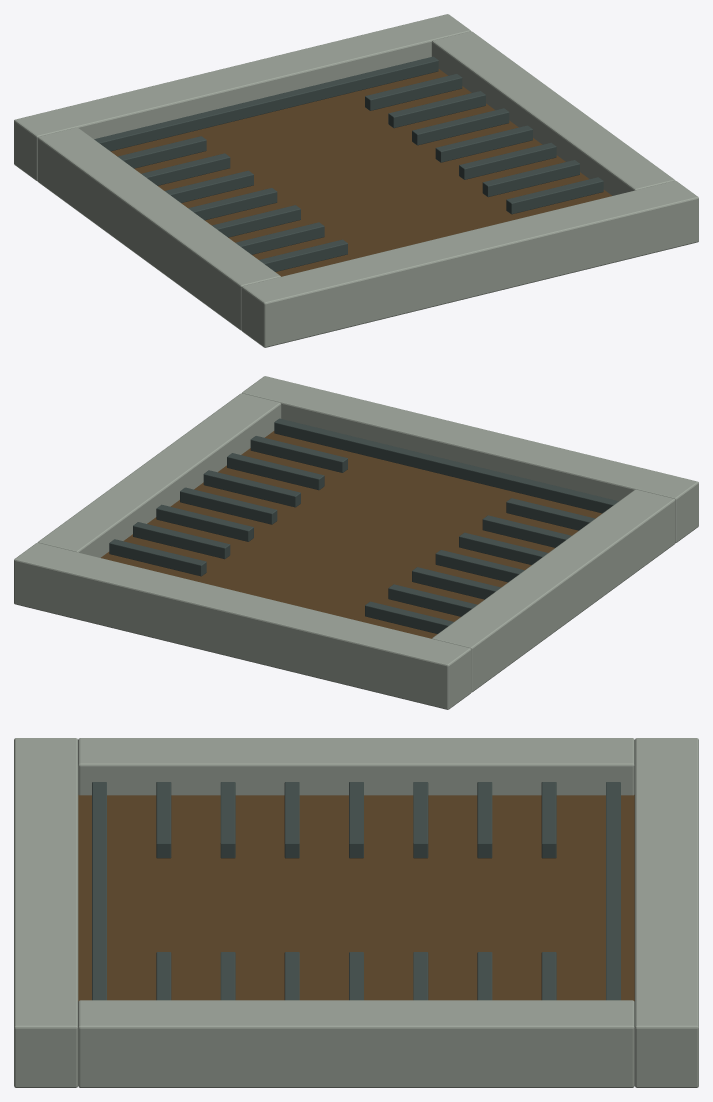
3 views of the same model, one above another, from view 1: azimuth 30°, elevation 25°; view 2: azimuth 150°, elevation 25°; view 3: azimuth 270°, elevation 25° (orthographic). The views are drawn at different scales.
Parts seen in each view (by area): view 1: PIT_Earth, PIT_Kerb, PIT_Kerb.002, PIT_Kerb.001, PIT_Kerb.003, GRATE_Tie.001, GRATE_Bar.012, GRATE_Bar.015, GRATE_Bar.010, GRATE_Bar.011, GRATE_Bar.013, GRATE_Bar.014 (+10 smaller); view 2: PIT_Earth, PIT_Kerb.001, PIT_Kerb.002, PIT_Kerb, PIT_Kerb.003, GRATE_Tie, GRATE_Bar.011, GRATE_Bar.014, GRATE_Bar.010, GRATE_Bar.012, GRATE_Bar.013, GRATE_Bar.015 (+10 smaller); view 3: PIT_Earth, PIT_Kerb.003, PIT_Kerb.002, PIT_Kerb, PIT_Kerb.001, GRATE_Tie, GRATE_Tie.001, GRATE_Bar.001, GRATE_Bar.002, GRATE_Bar.006, GRATE_Bar.007, GRATE_Bar.003 (+12 smaller).
Part boxes in pixels (x1,y1,x2,y2): PIT_Earth: (111, 69, 611, 276); PIT_Kerb: (241, 180, 698, 347); PIT_Kerb.002: (37, 127, 280, 330); PIT_Kerb.001: (14, 14, 470, 181); PIT_Kerb.003: (431, 31, 674, 195); GRATE_Tie.001: (94, 57, 438, 150); GRATE_Bar.012: (459, 142, 556, 179); GRATE_Bar.015: (388, 91, 485, 128); GRATE_Bar.010: (506, 177, 603, 214); GRATE_Bar.011: (482, 160, 579, 197); GRATE_Bar.013: (435, 125, 532, 162); GRATE_Bar.014: (412, 108, 509, 145); PIT_Earth: (101, 431, 601, 638); PIT_Kerb.001: (14, 542, 471, 709); PIT_Kerb.002: (432, 489, 675, 692); PIT_Kerb: (242, 376, 698, 543); PIT_Kerb.003: (38, 393, 281, 557); GRATE_Tie: (274, 419, 618, 513); GRATE_Bar.011: (227, 453, 324, 490); GRATE_Bar.014: (156, 504, 253, 541); GRATE_Bar.010: (250, 436, 347, 472); GRATE_Bar.012: (203, 470, 300, 507); GRATE_Bar.013: (180, 487, 277, 524); GRATE_Bar.015: (133, 522, 230, 559); PIT_Earth: (78, 795, 634, 1001); PIT_Kerb.003: (78, 1000, 634, 1087); PIT_Kerb.002: (78, 738, 634, 795); PIT_Kerb: (14, 738, 78, 1087); PIT_Kerb.001: (634, 738, 698, 1087); GRATE_Tie: (92, 785, 106, 1000); GRATE_Tie.001: (606, 784, 620, 1000); GRATE_Bar.001: (156, 782, 171, 858); GRATE_Bar.002: (220, 782, 235, 858); GRATE_Bar.006: (477, 782, 492, 858); GRATE_Bar.007: (541, 782, 556, 858); GRATE_Bar.003: (284, 782, 299, 858).
Bounding box in the file's own units: 1.6 × 0.16 × 1.6.
